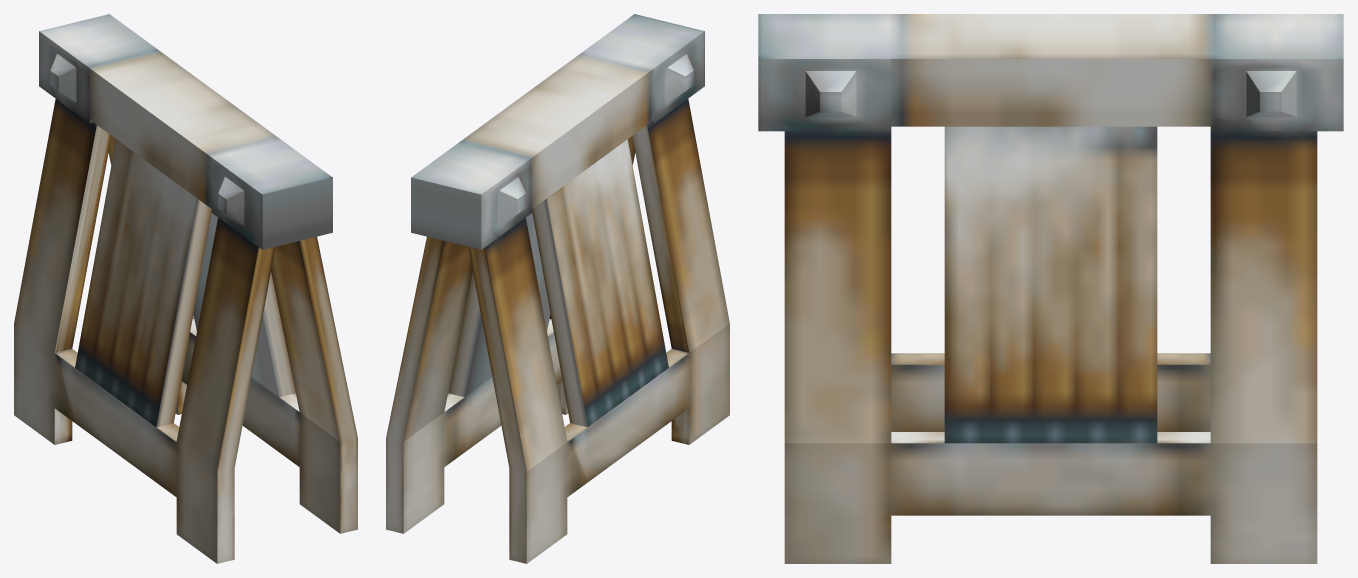
File: Poly_Barricade_02_Snow.obj
3 views of the same model, side by side, from view 1: azimuth 30°, elevation 25°; view 2: azimuth 150°, elevation 25°; view 3: azimuth 270°, elevation 25° (orthographic). The views are drawn at different scales.
Parts seen in each view (by area): view 1: Cube, Cube.001; view 2: Cube, Cube.001; view 3: Cube, Cube.001.
Boxes of the visible parts, <box> form: Cube: <box>14,99,357,563</box>; Cube.001: <box>39,14,332,249</box>; Cube: <box>386,99,729,563</box>; Cube.001: <box>411,14,704,249</box>; Cube: <box>784,126,1317,563</box>; Cube.001: <box>758,14,1343,131</box>.
Size of the model in its own units: 0.2952 by 0.738 by 0.8119.
1 material, 1 textured.
